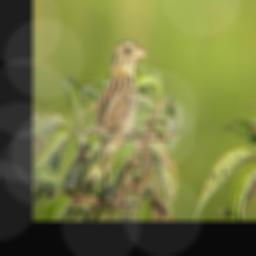Sparrow: (79, 36, 148, 174)
